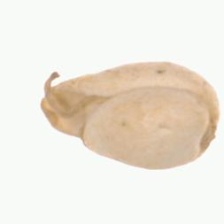L1: (36, 74, 86, 142), (202, 91, 221, 158)
L2: (39, 60, 220, 170)
